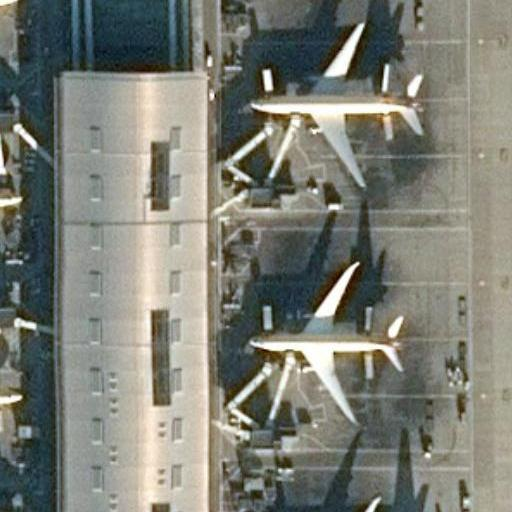Aircraft: (250, 21, 425, 188), (246, 258, 405, 425), (249, 492, 451, 512), (0, 106, 22, 284), (0, 307, 21, 486), (0, 0, 21, 84)
